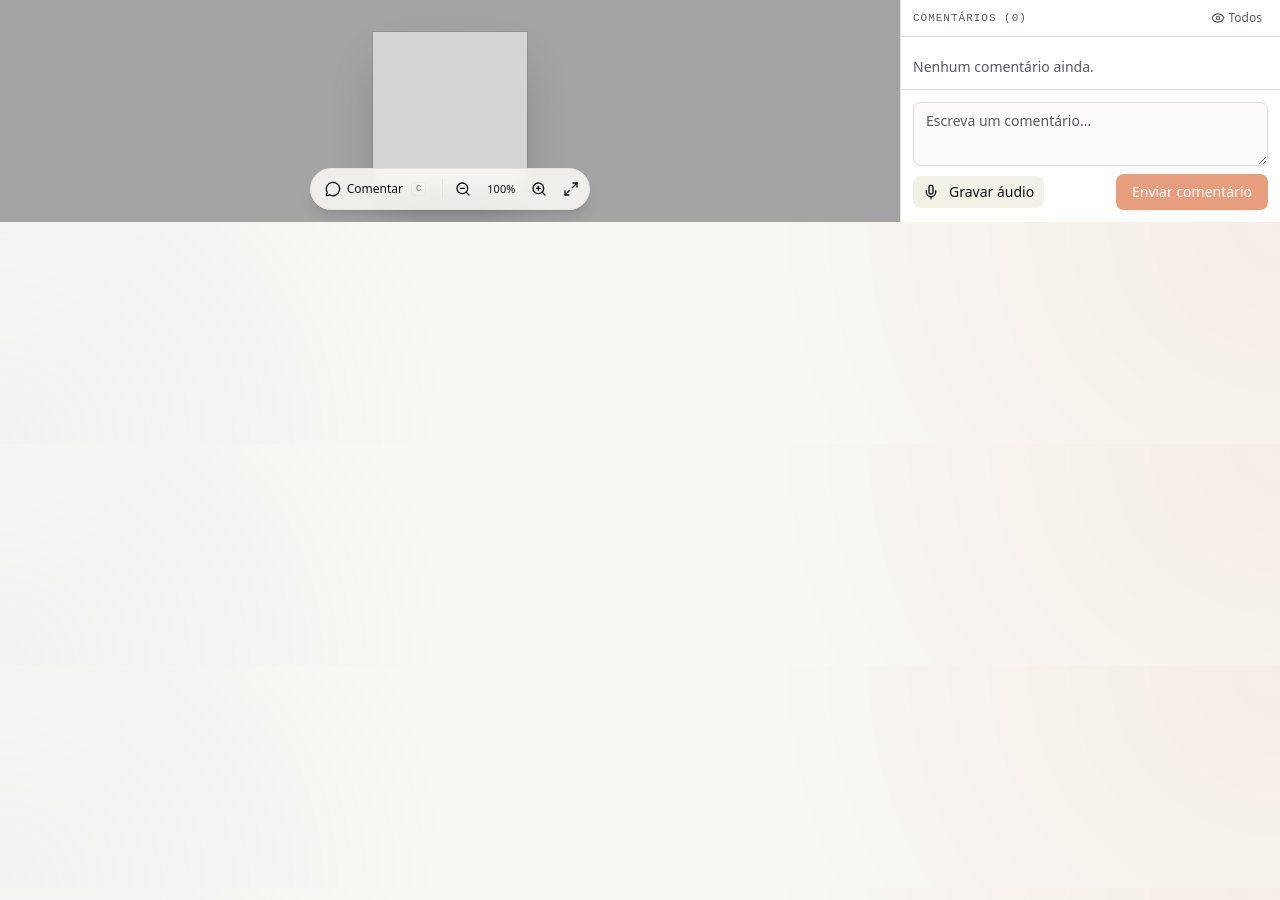
Test: FeedbackViewer › zoom out decreases percentage
This screenshot has width=1280, height=900.
Click the button named "Diminuir zoom": click(463, 189) [449, 175, 477, 203]
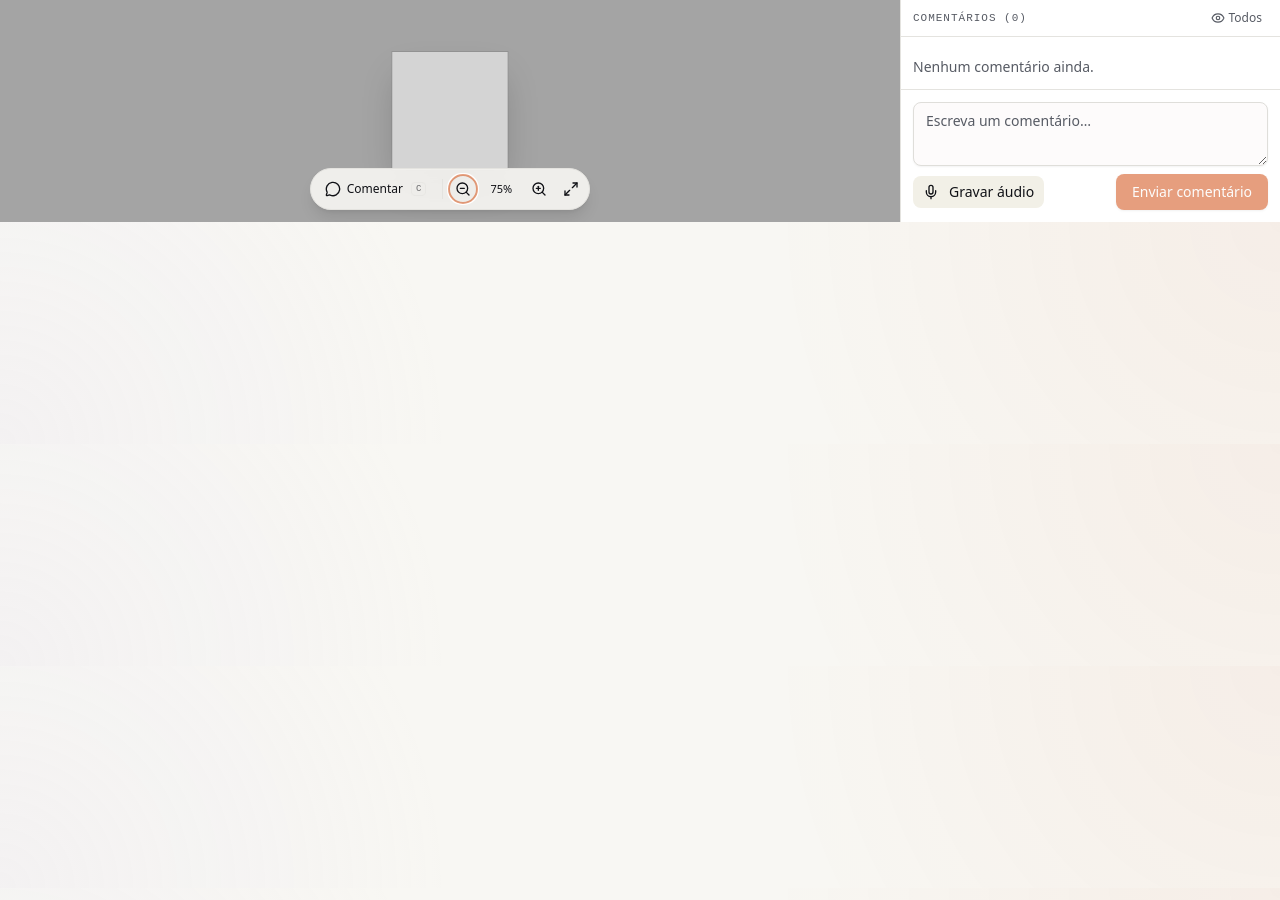
Check: the text "75%" is shown, box [490, 181, 512, 196]
